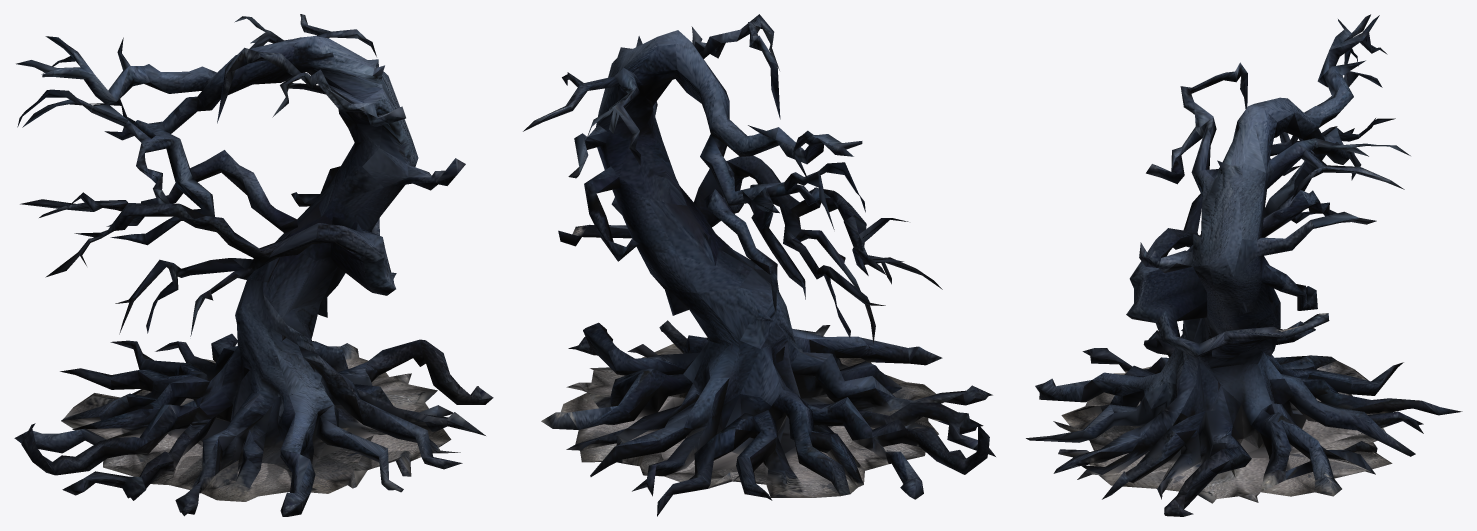
The model's file is tree_dead.glb.
The picture shows the model from 3 angles, left to right: view 1: azimuth 30°, elevation 25°; view 2: azimuth 150°, elevation 25°; view 3: azimuth 270°, elevation 25°; orthographic projection. The views are drawn at different scales.
Parts seen in each view (by area): view 1: node_0; view 2: node_0; view 3: node_0.
Boxes of the visible parts, x1=… form: node_0: x1=14, y1=14, x2=493, y2=516; node_0: x1=523, y1=14, x2=995, y2=516; node_0: x1=1026, y1=14, x2=1462, y2=516.
Size of the model in its own units: 149 by 125 by 137.
Materials: 1 (1 with a texture image).
